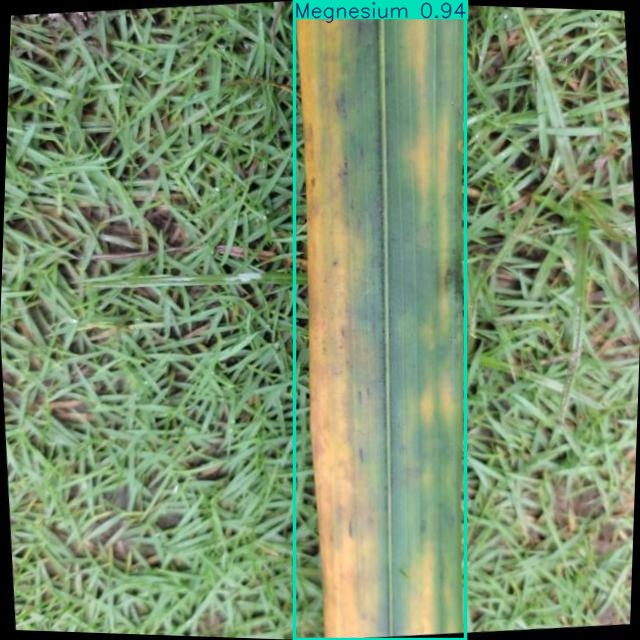Megnesium: (294, 0, 466, 639)
